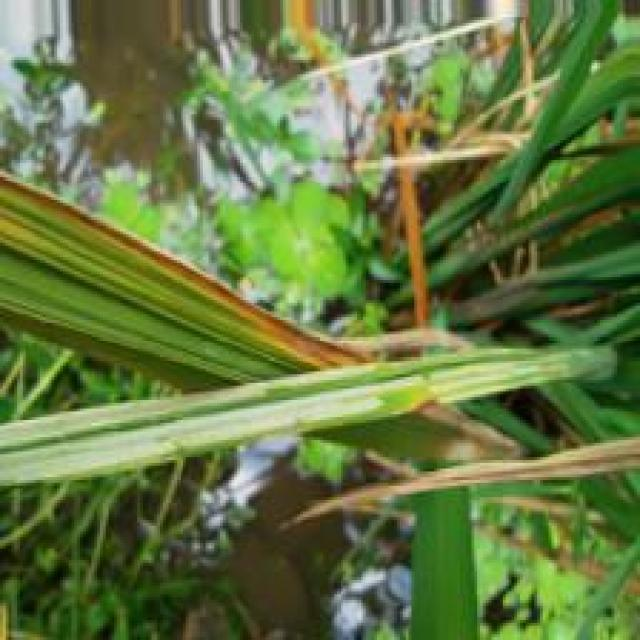Rice_Hispa: (0, 343, 581, 485), (0, 354, 392, 453)
